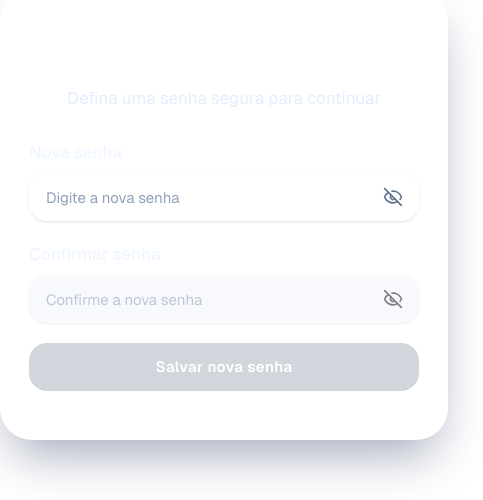
Scenario: ChangePasswordForm › habilita confirmar senha quando a nova senha é válida
In the password field with placeholder "Digite a nova senha": (224, 197) [29,173,419,221], type "Abcdef1!"
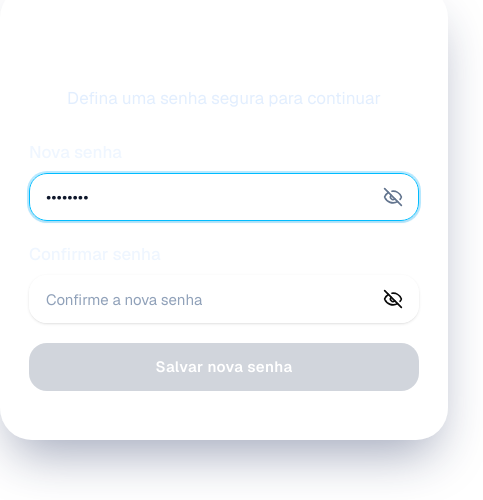
Now the password field with placeholder "Confirme a nova senha" is enabled, box [29,275,419,323]
Now the button named "Exibir senha" below "Confirmar senha" is enabled, box [383,289,403,309]
